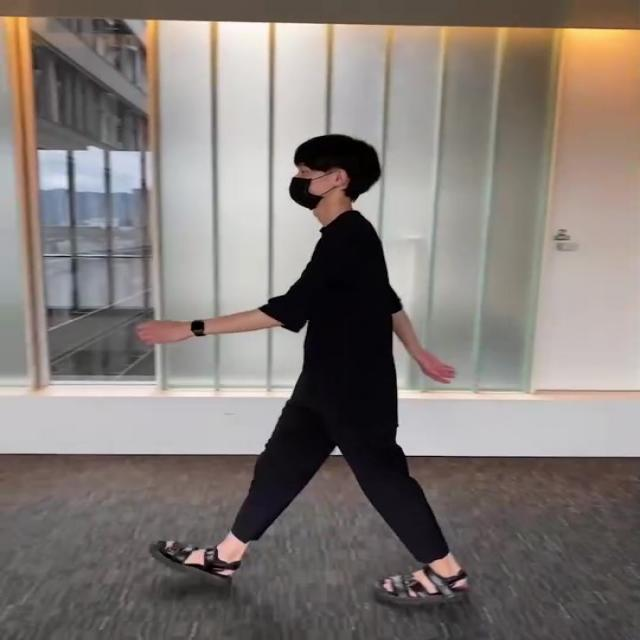direk: (131, 132, 477, 608)
